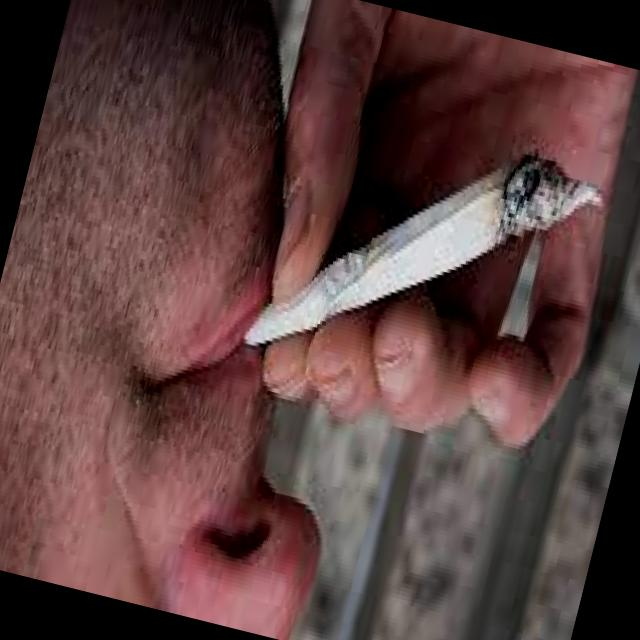cigarette: (235, 78, 600, 427)
